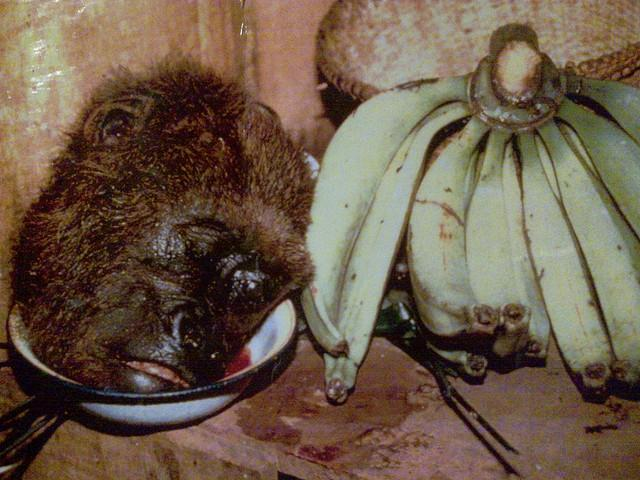banana: (300, 71, 475, 358), (324, 100, 484, 404), (538, 120, 640, 395), (518, 128, 612, 392), (406, 115, 500, 338), (462, 130, 536, 338), (559, 92, 640, 236), (386, 280, 489, 379), (566, 74, 640, 146), (555, 120, 602, 184), (534, 127, 562, 206)
